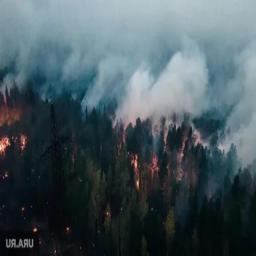Heavy smoke: (0, 0, 255, 236)
